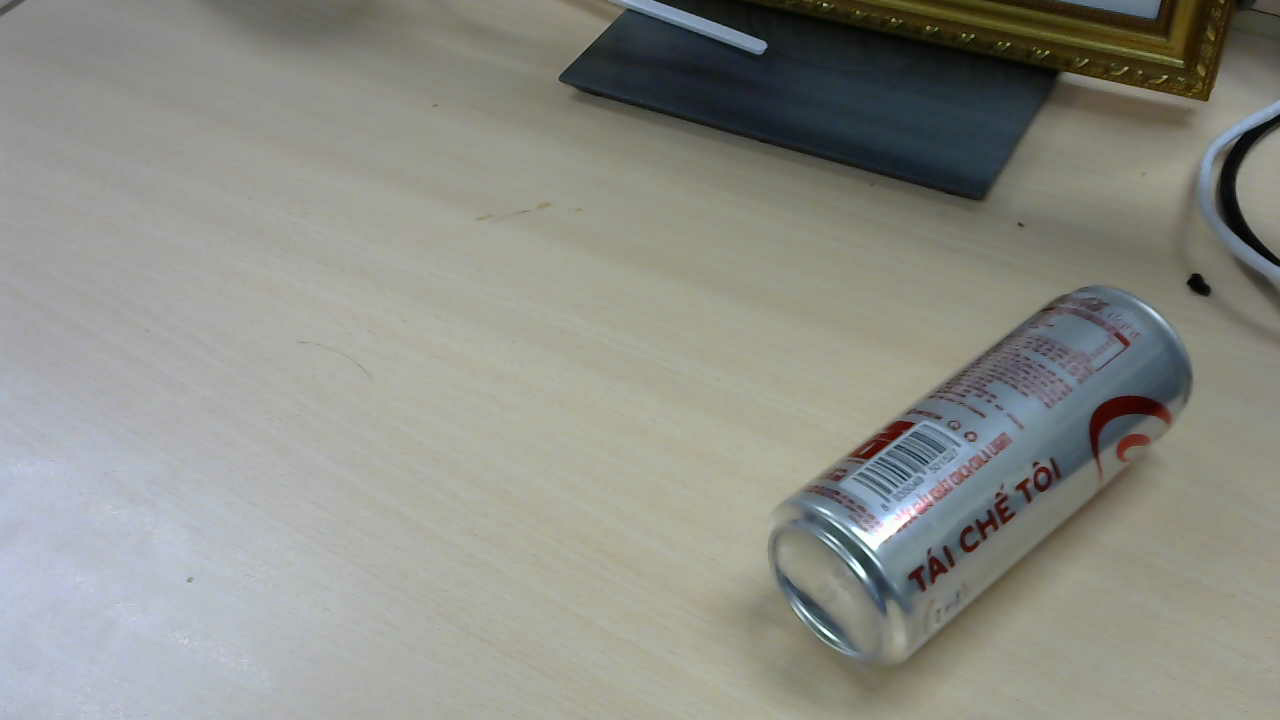Coca_Cola: (768, 289, 1200, 673)
